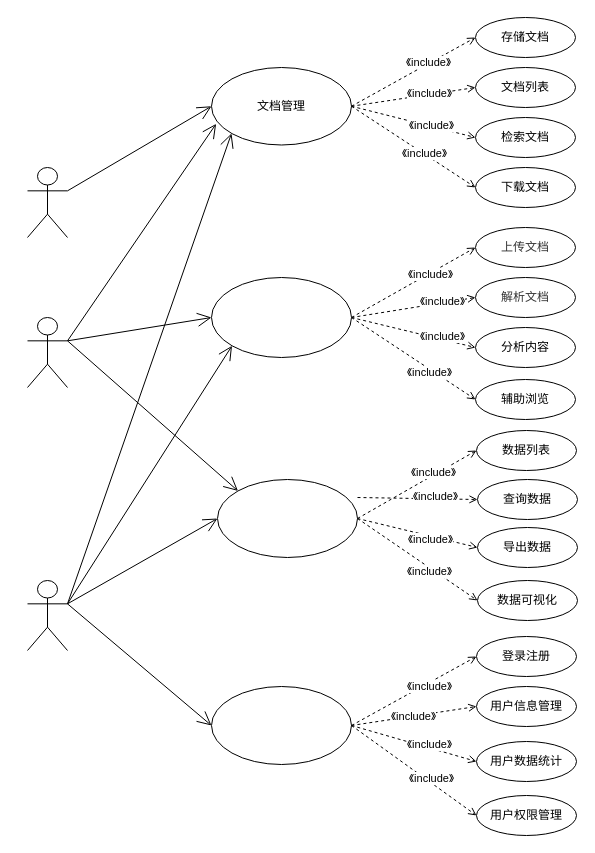
The diagram is 595 pixels wide and 853 high, and some of its shapes have lost their labels. The centre of each missing label's shape, as x and y in pixels:
"业务人员" belongs at (47,202).
"报告数据管理" belongs at (287,518).
"文档分析" belongs at (281,317).
"用户管理" belongs at (281,725).
"管理人员" belongs at (47,352).
"管理员用户" belongs at (47,615).
